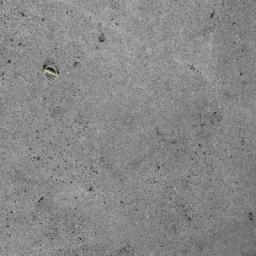FOD: (41, 59, 63, 88)
